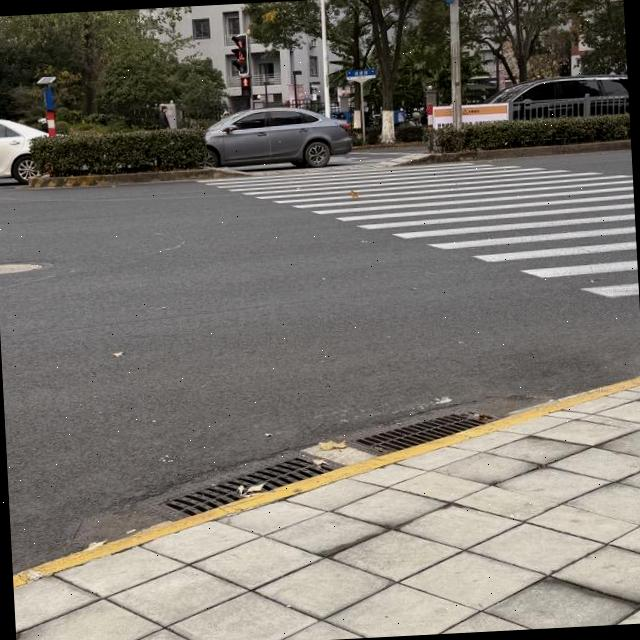curb: (13, 377, 640, 588), (401, 140, 630, 166), (28, 168, 255, 188)
